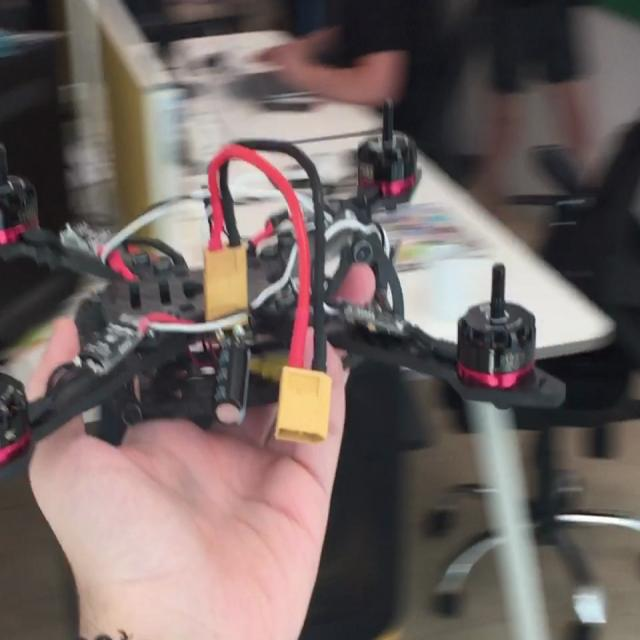drone: (0, 77, 577, 489)
